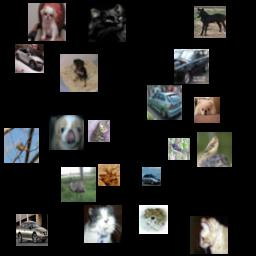automobile: (174, 49, 209, 84), (147, 85, 182, 120), (16, 214, 48, 246), (15, 44, 44, 73), (142, 167, 161, 186)
bird: (61, 167, 96, 202), (4, 128, 39, 163), (197, 132, 232, 167), (168, 138, 190, 160)
cat: (84, 205, 122, 243), (88, 4, 126, 42), (190, 216, 228, 254), (88, 120, 110, 142)
deer: (98, 164, 120, 186)
dog: (60, 54, 98, 92), (28, 3, 66, 41), (49, 115, 84, 150), (194, 97, 220, 123)
frog: (139, 205, 168, 234)
